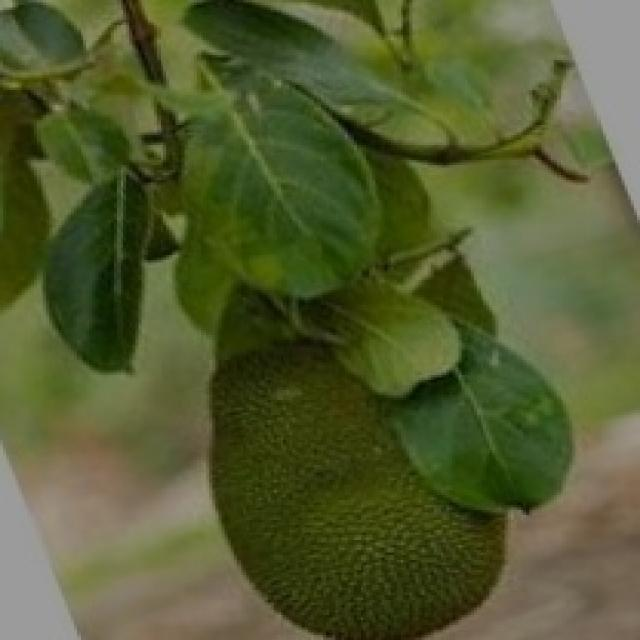Fruit: (157, 280, 532, 640)
